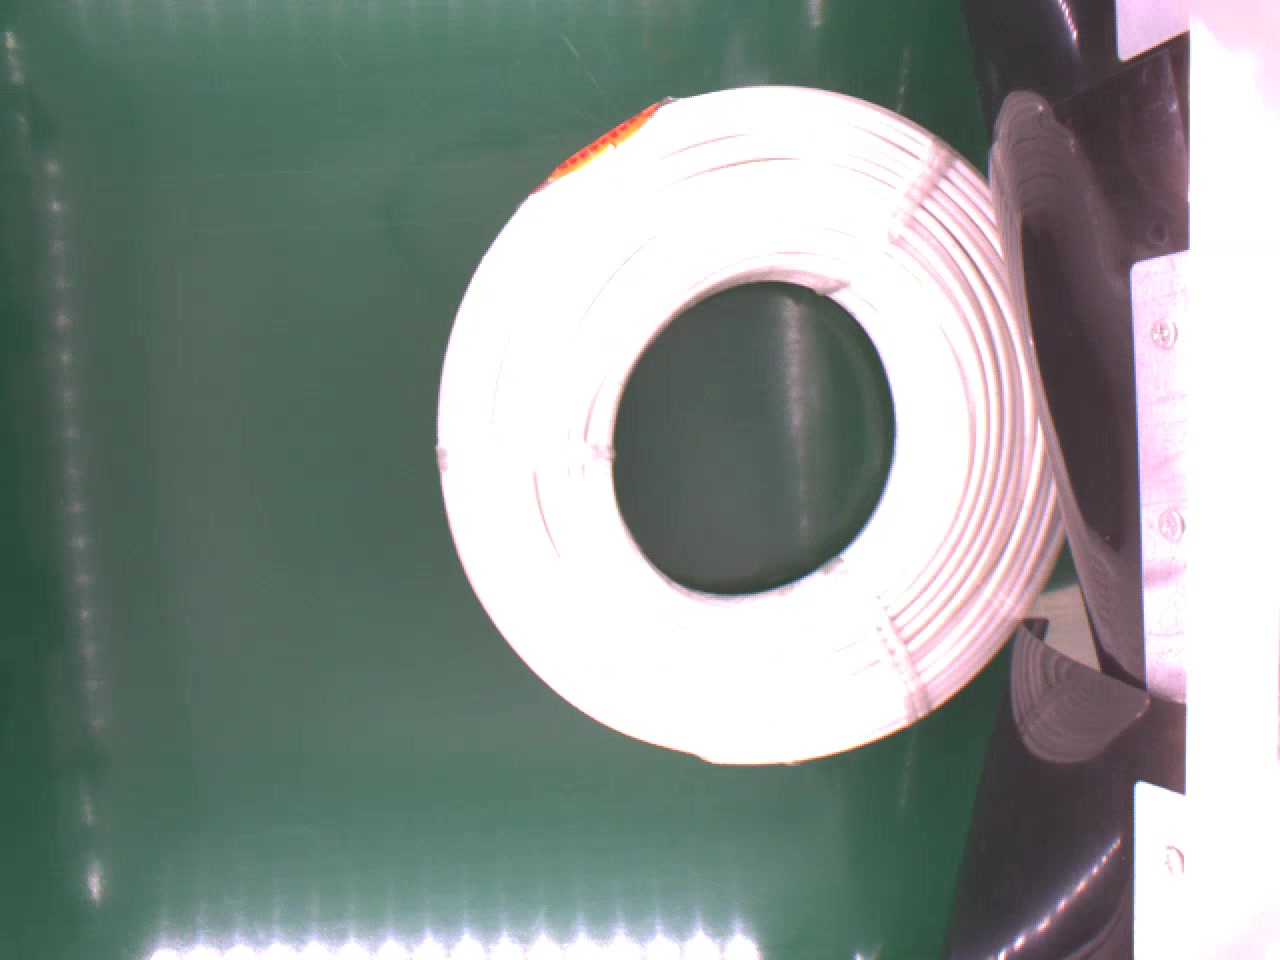white: (433, 79, 1075, 779)
